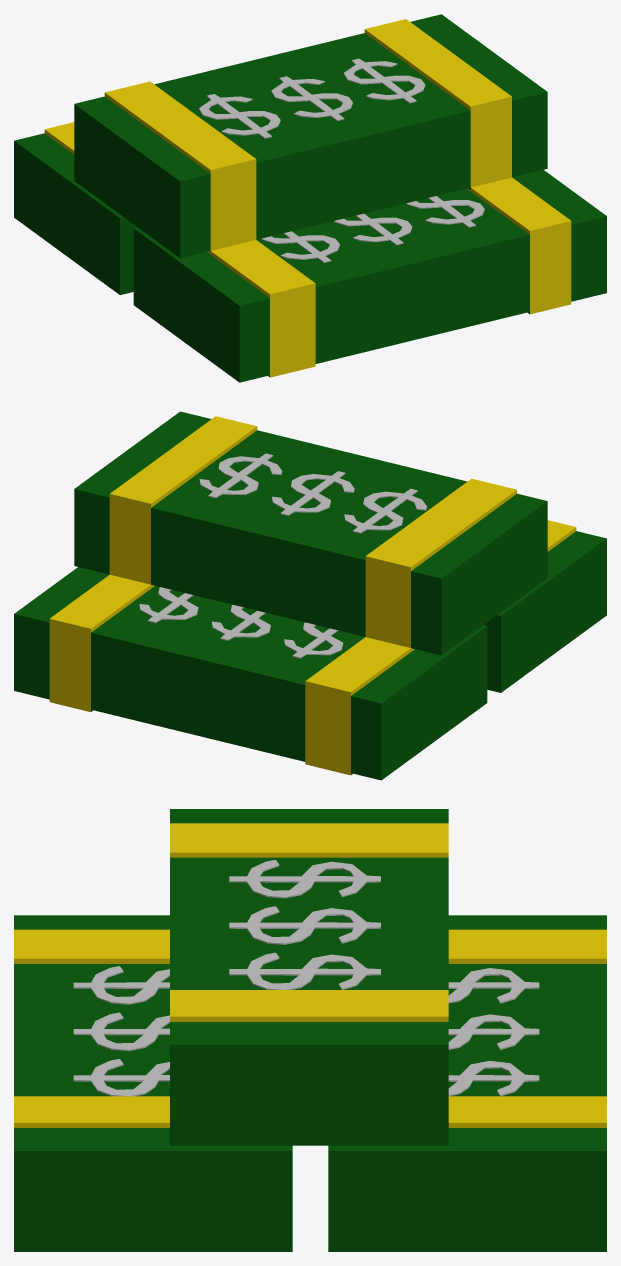
File: Cash ($10).glb
3 views of the same model, one above another, from view 1: azimuth 30°, elevation 25°; view 2: azimuth 150°, elevation 25°; view 3: azimuth 270°, elevation 25° (orthographic). The views are drawn at different scales.
Visible parts, largest first — view 1: Cash.002, Cash.001, Cash; view 2: Cash.002, Cash, Cash.001; view 3: Cash.002, Cash, Cash.001.
Part boxes in pixels (x1=…): Cash.002: x1=74, y1=14, x2=547, y2=258; Cash.001: x1=133, y1=170, x2=606, y2=382; Cash: x1=14, y1=122, x2=137, y2=294; Cash.002: x1=74, y1=411, x2=547, y2=655; Cash: x1=14, y1=567, x2=487, y2=780; Cash.001: x1=484, y1=520, x2=606, y2=692; Cash.002: x1=170, y1=809, x2=448, y2=1145; Cash: x1=328, y1=915, x2=606, y2=1251; Cash.001: x1=14, y1=915, x2=292, y2=1251.
Size of the model in its own units: 0.3048 by 0.1303 by 0.3242.
